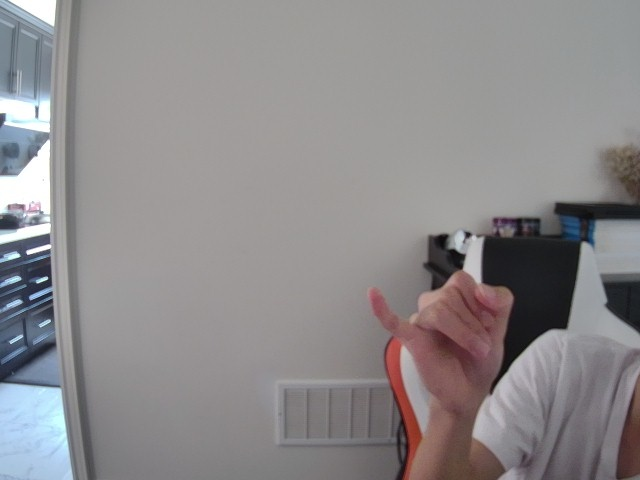J: (361, 259, 516, 401)
